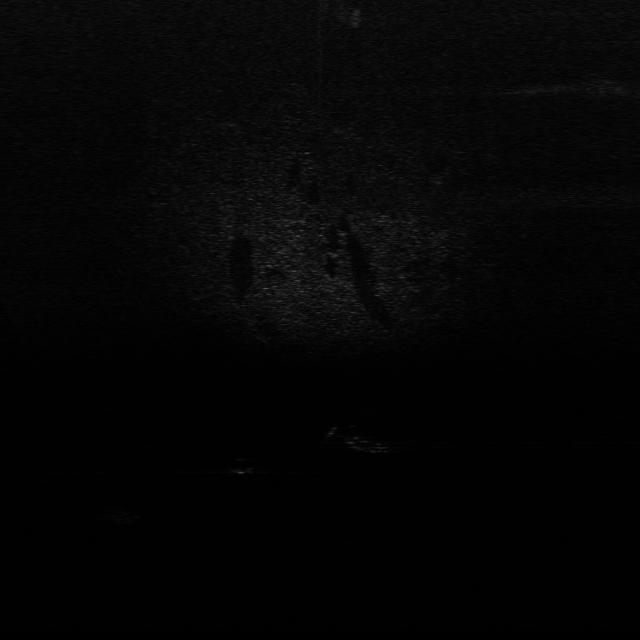ball: (227, 456, 257, 476)
circle cage: (98, 503, 146, 525)
human body: (324, 423, 406, 455)
